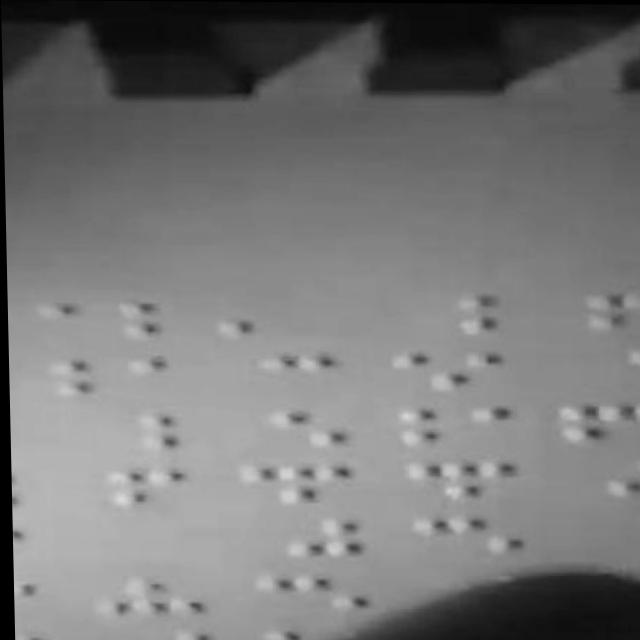braiile: (219, 459, 352, 515), (56, 465, 193, 516), (226, 519, 362, 570), (383, 399, 516, 450), (65, 577, 205, 625), (33, 293, 162, 345), (379, 345, 508, 396), (242, 571, 371, 622), (394, 513, 531, 561), (210, 351, 338, 402), (40, 352, 169, 402), (386, 458, 519, 504), (58, 411, 184, 459), (217, 409, 347, 455), (378, 288, 507, 334), (544, 342, 640, 393), (545, 400, 640, 451), (542, 286, 640, 333), (549, 455, 640, 502), (73, 627, 215, 640)
